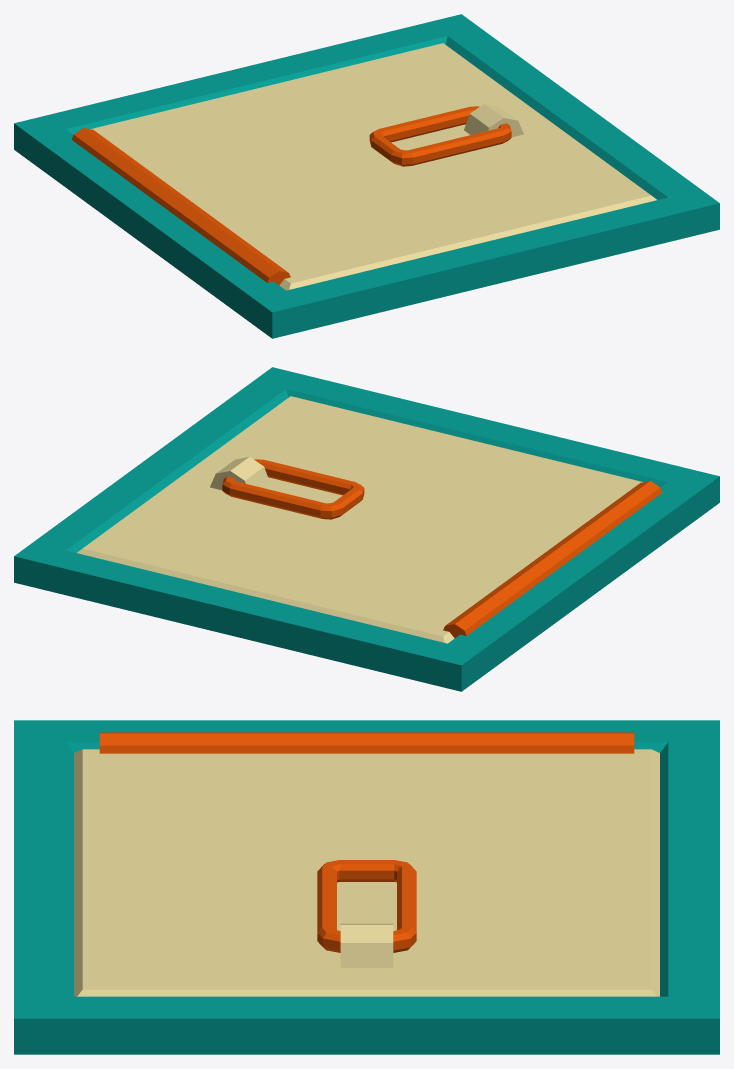
File: GEO_opening.fbx
The picture shows the model from 3 angles, top to bottom: view 1: azimuth 30°, elevation 25°; view 2: azimuth 150°, elevation 25°; view 3: azimuth 270°, elevation 25°; orthographic projection. The views are drawn at different scales.
Visible parts, largest first — view 1: GEO_opening, GEO_handle; view 2: GEO_opening, GEO_handle; view 3: GEO_opening, GEO_handle.
Boxes of the visible parts, bbox=[...] form: GEO_opening: bbox=[14, 14, 719, 338]; GEO_handle: bbox=[369, 106, 511, 166]; GEO_opening: bbox=[14, 367, 719, 691]; GEO_handle: bbox=[222, 459, 364, 519]; GEO_opening: bbox=[14, 720, 719, 1054]; GEO_handle: bbox=[317, 860, 416, 952].
Size of the model in its own units: 188 by 19.21 by 188.
